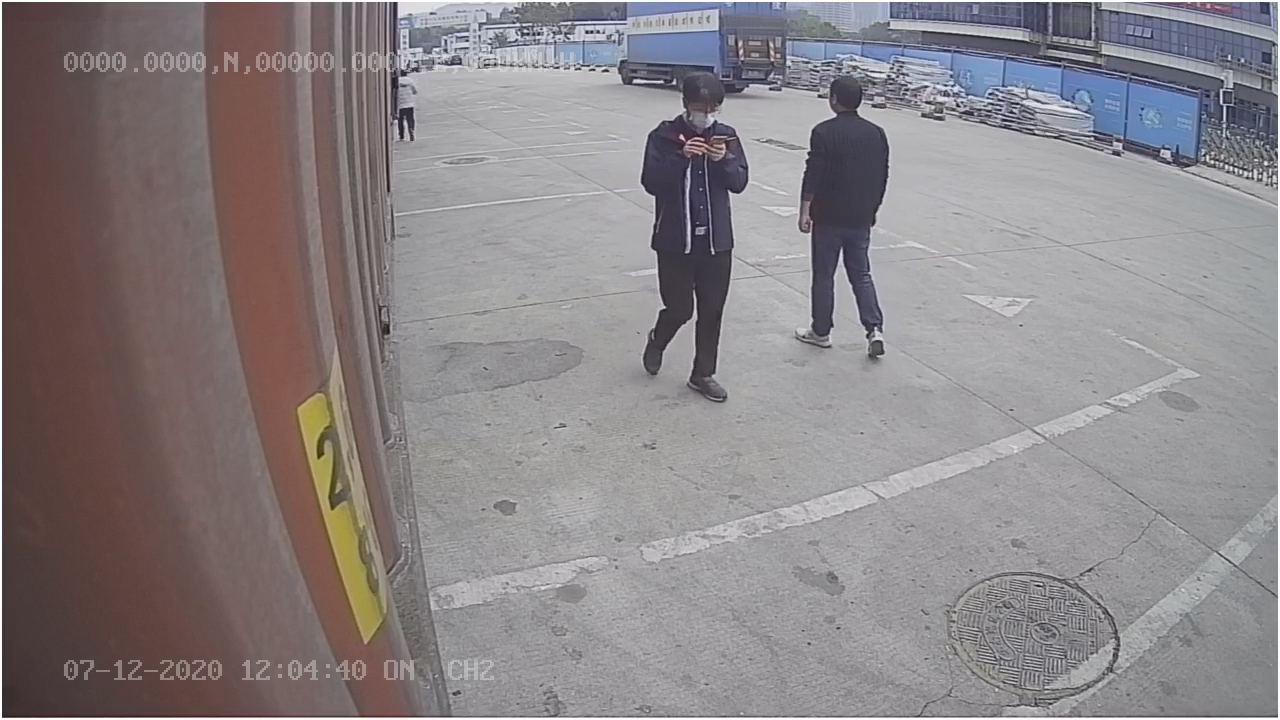person: (790, 74, 893, 362)
